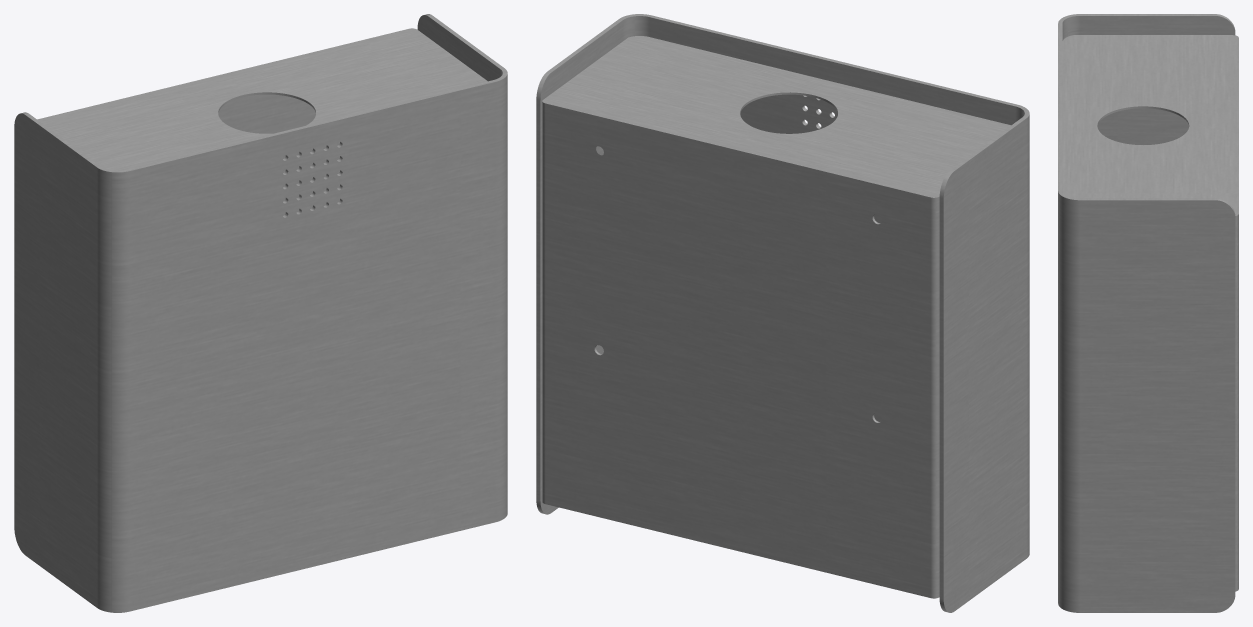
The picture shows the model from 3 angles, left to right: view 1: azimuth 30°, elevation 25°; view 2: azimuth 150°, elevation 25°; view 3: azimuth 270°, elevation 25°; orthographic projection. The views are drawn at different scales.
Visible parts, largest first — view 1: 400_BODY, 400_BODY.2, Boole; view 2: Boole, 400_BODY, 400_BODY.2; view 3: 400_BODY, 400_BODY.2, Boole.
Part boxes in pixels (box(x1,y1,x2,y2)): 400_BODY: box(14, 14, 507, 612); 400_BODY.2: box(37, 28, 487, 170); Boole: box(218, 94, 339, 215); Boole: box(542, 102, 939, 598); 400_BODY: box(536, 14, 1029, 612); 400_BODY.2: box(542, 36, 1010, 197); 400_BODY: box(1058, 14, 1235, 612); 400_BODY.2: box(1062, 35, 1238, 215); Boole: box(1235, 214, 1238, 591).
Bounding box in the file's own units: 0.3 × 0.31 × 0.123.
Materials: 1 (1 with a texture image).
